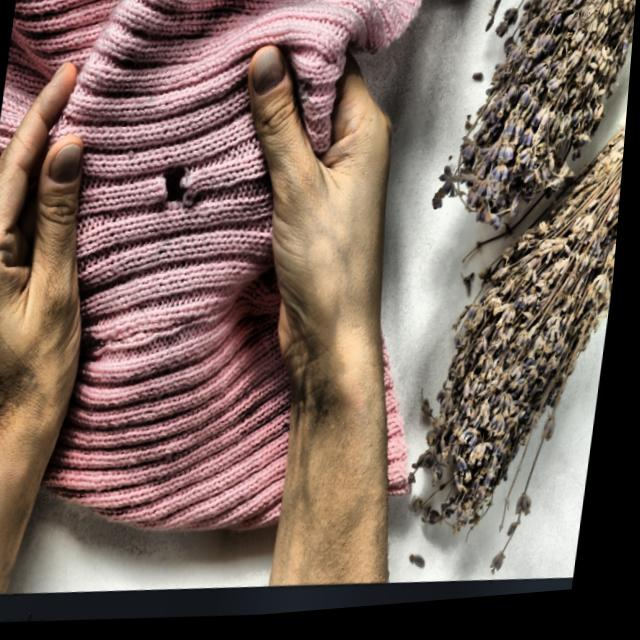Hole: (145, 149, 213, 225)
